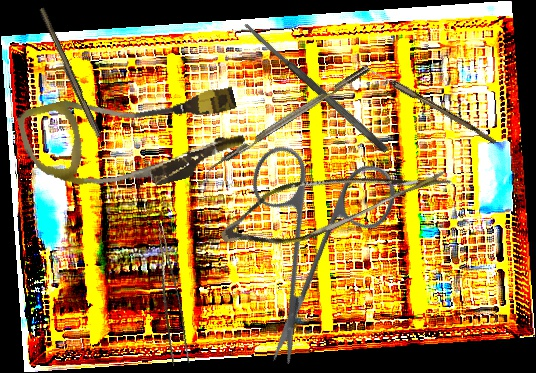Cannula: (15, 60, 251, 215)
Chopper: (198, 64, 376, 184)
Iris Scissors: (178, 103, 447, 370)
Micro Scissor: (213, 116, 455, 284)
Scalpel Handle: (35, 6, 104, 140)
Spatula Surgical: (241, 19, 390, 155)
Surgical Spoon: (355, 59, 498, 145)
Tissue Forceps: (141, 222, 194, 367)
